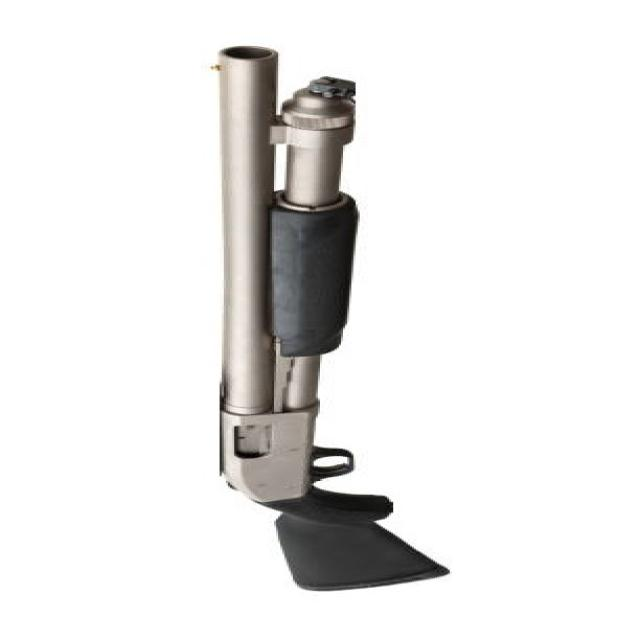rifle: (184, 34, 473, 606)
